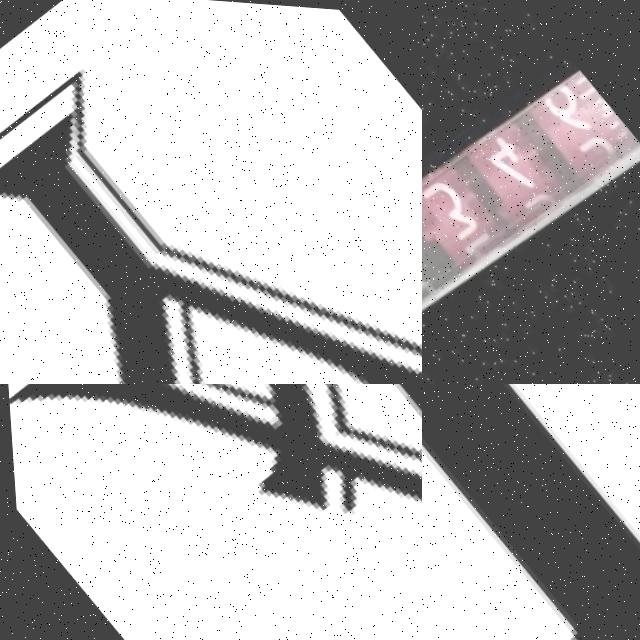3: (422, 165, 485, 247)
4: (471, 122, 543, 198)
6: (530, 66, 599, 137)
A: (0, 384, 422, 640)
I: (422, 384, 640, 640)
Y: (0, 0, 422, 384)
